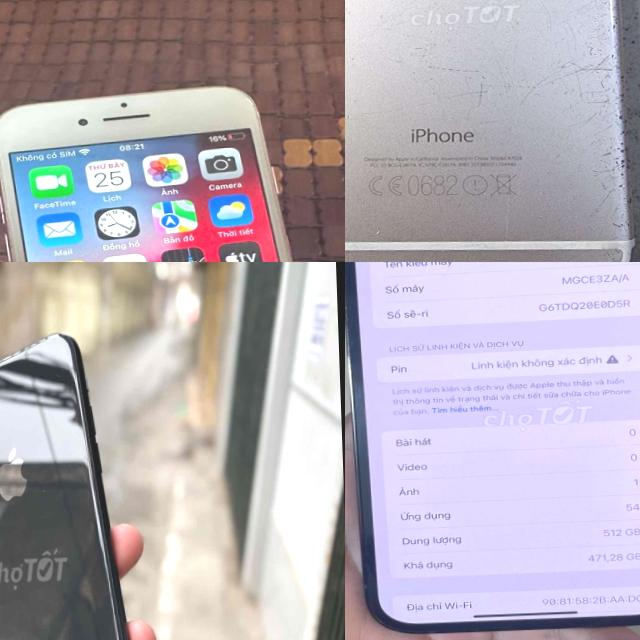scratch: (513, 0, 640, 262), (404, 5, 526, 132)
